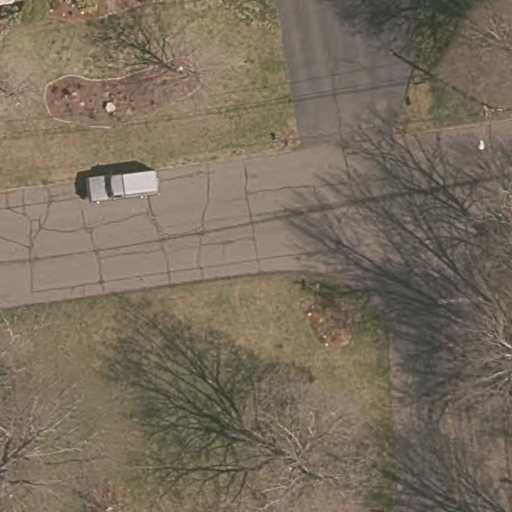DT: (472, 97, 510, 155)
